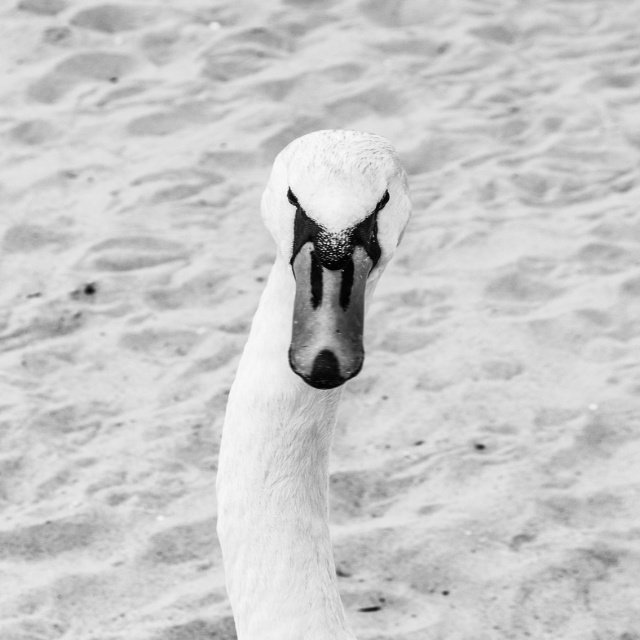Goose: (215, 132, 412, 640)
